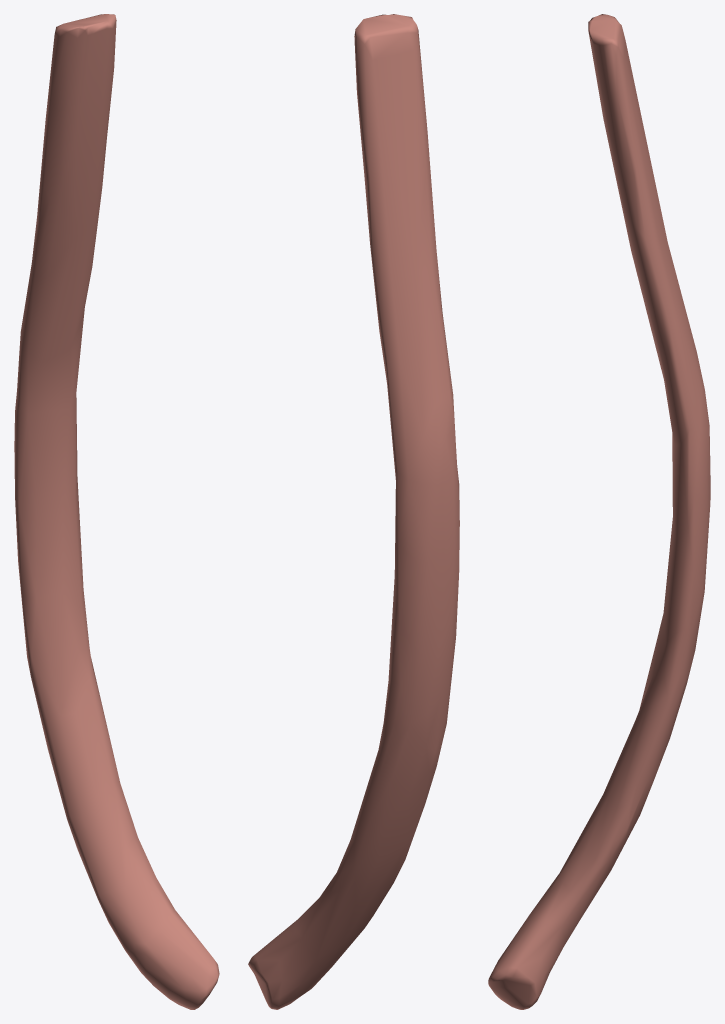
The model's file is speiseroehre-bp.glb.
3 renders of one model, left to right at view 1: azimuth 30°, elevation 25°; view 2: azimuth 210°, elevation 25°; view 3: azimuth 270°, elevation 25°, orthographic. The views are drawn at different scales.
Parts seen in each view (by area): view 1: FJ2563 Esophagus; view 2: FJ2563 Esophagus; view 3: FJ2563 Esophagus.
Boxes of the visible parts, x1,y1,x2,y2 form: FJ2563 Esophagus: (14, 14, 219, 1009); FJ2563 Esophagus: (248, 14, 459, 1009); FJ2563 Esophagus: (488, 14, 710, 1009).
Size of the model in its own units: 0.4016 by 3.4 by 0.7171.
